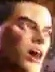kevin: (0, 0, 51, 71)
